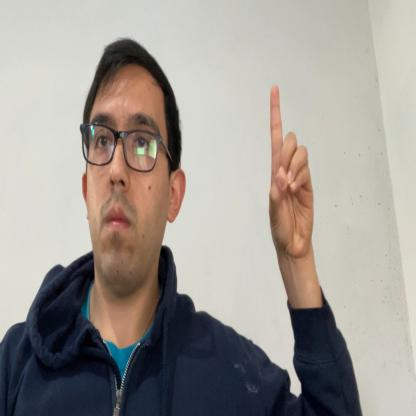D: (268, 84, 314, 261)
